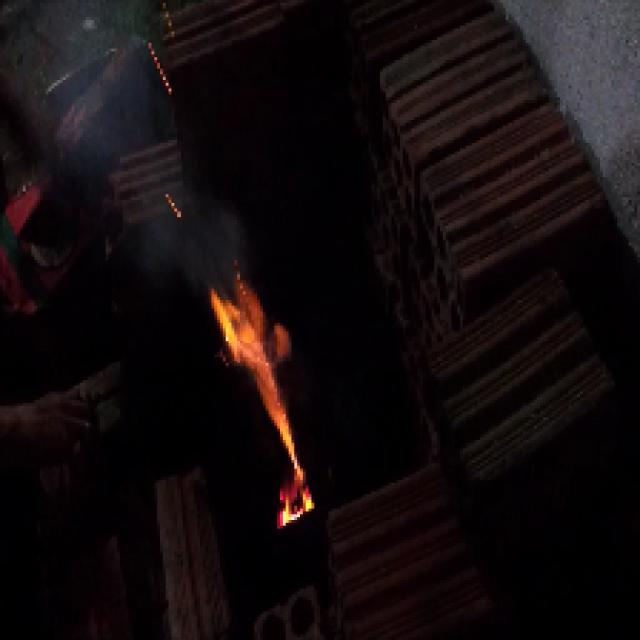fire: (226, 291, 324, 520)
smoke: (89, 96, 219, 295)
